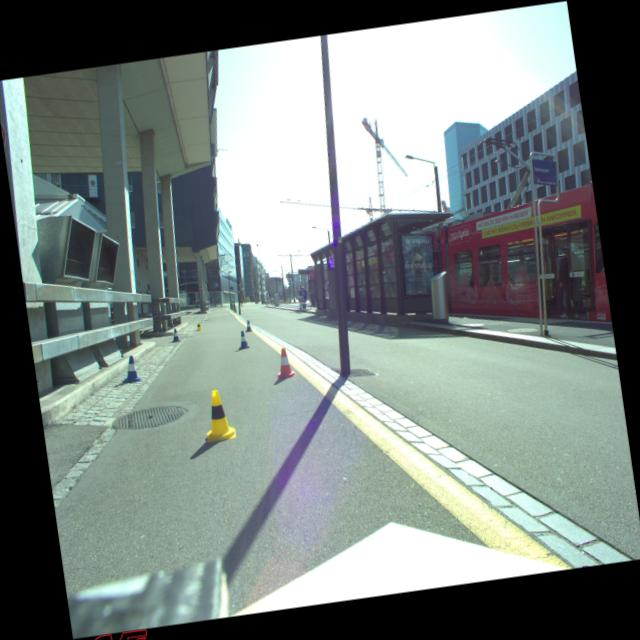blue_cone: (121, 354, 141, 384), (237, 330, 250, 350), (170, 328, 180, 342), (244, 320, 253, 332)
orange_cone: (274, 347, 296, 379)
yellow_cone: (200, 388, 237, 442), (195, 321, 202, 332)
